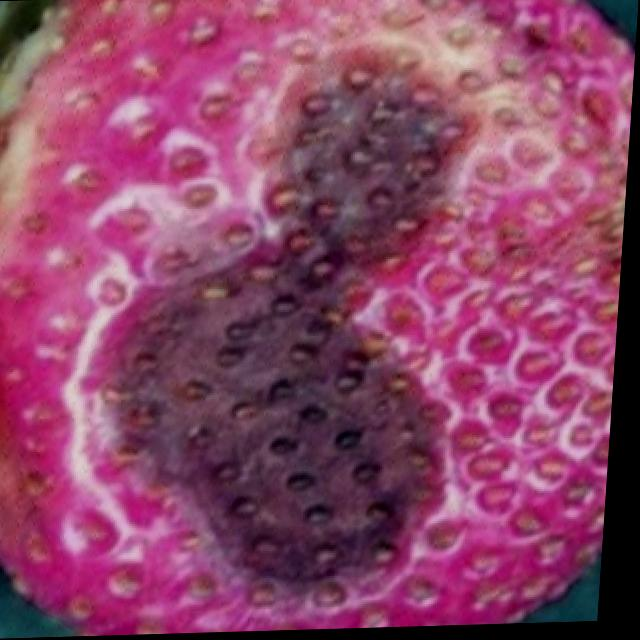Anthracnose Fruit Rot: (78, 29, 491, 620)
